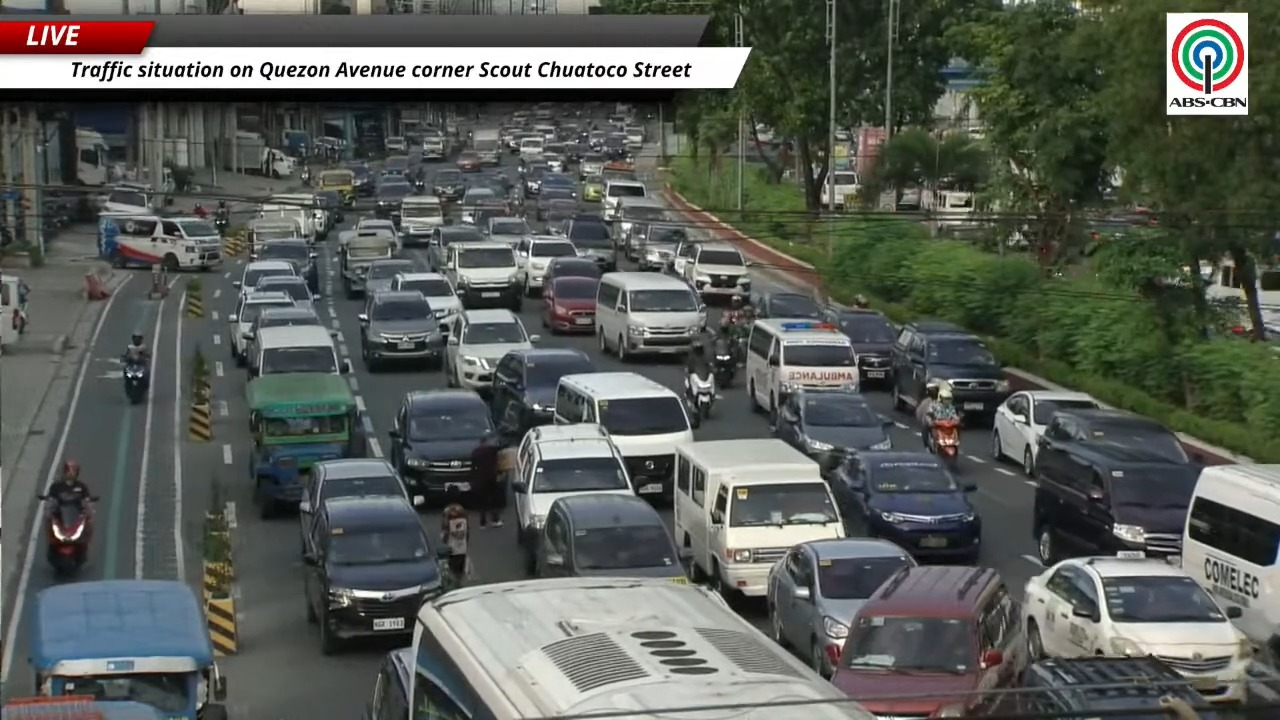bus: (410, 577, 874, 719), (1181, 464, 1279, 654)
car: (1023, 554, 1252, 702), (832, 565, 1026, 717), (1032, 409, 1202, 566), (303, 496, 442, 654), (766, 538, 915, 676), (510, 423, 635, 574), (830, 451, 981, 563), (535, 493, 687, 583), (995, 656, 1203, 717), (891, 320, 1010, 424), (389, 390, 496, 501), (774, 388, 893, 470), (299, 458, 423, 536), (489, 348, 596, 437), (991, 390, 1100, 476), (443, 309, 538, 391), (358, 290, 444, 371), (441, 241, 523, 311), (826, 308, 895, 387), (228, 291, 294, 366), (391, 272, 461, 332), (244, 305, 323, 357), (251, 239, 318, 295), (683, 243, 750, 298), (364, 647, 415, 719), (516, 236, 577, 296), (542, 276, 598, 333), (564, 214, 617, 271), (427, 225, 485, 271), (633, 223, 687, 270), (233, 260, 296, 294), (751, 292, 824, 320), (365, 258, 418, 295), (375, 175, 413, 225), (255, 275, 314, 306), (544, 257, 603, 285), (534, 186, 575, 221), (668, 234, 702, 276), (484, 216, 532, 244), (542, 199, 578, 234), (520, 160, 550, 197), (432, 169, 466, 200), (541, 168, 577, 197), (315, 190, 344, 224), (346, 162, 375, 196), (382, 146, 410, 174), (579, 151, 605, 181), (355, 217, 395, 233), (544, 144, 566, 172), (582, 174, 604, 201), (455, 151, 481, 172)
motorcycle: (45, 497, 97, 576), (928, 419, 959, 470), (687, 374, 715, 419), (713, 337, 737, 387), (123, 359, 148, 404), (214, 209, 228, 234), (300, 165, 310, 184)
truck: (28, 580, 227, 719), (224, 131, 295, 178), (75, 127, 109, 186), (472, 128, 500, 165), (281, 129, 311, 157)
